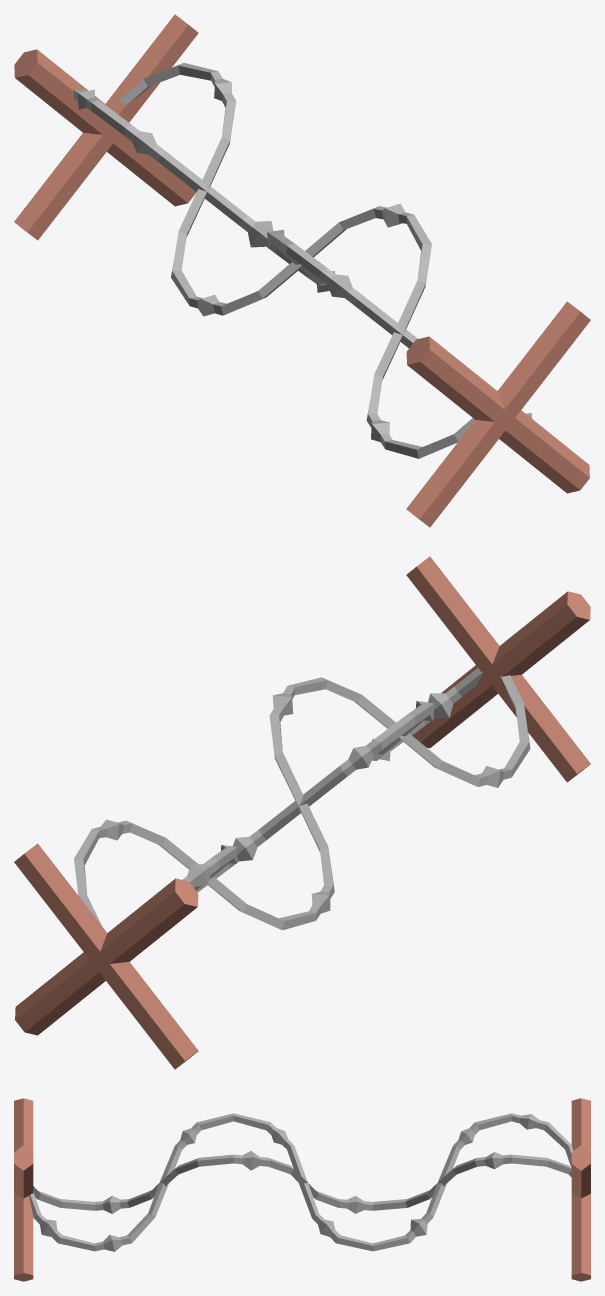
File: Barbedwire.fbx
3 renders of one model, top to bottom at view 1: azimuth 30°, elevation 25°; view 2: azimuth 150°, elevation 25°; view 3: azimuth 270°, elevation 25°, orthographic. The views are drawn at different scales.
Visible parts, largest first — view 1: Barbedwire; view 2: Barbedwire; view 3: Barbedwire.
Part boxes in pixels (x1,y1,x2,y2): Barbedwire: (14,14,590,527); Barbedwire: (14,556,590,1069); Barbedwire: (14,1098,590,1281).
Size of the model in its own units: 0.8145 by 3.1 by 0.8145.
